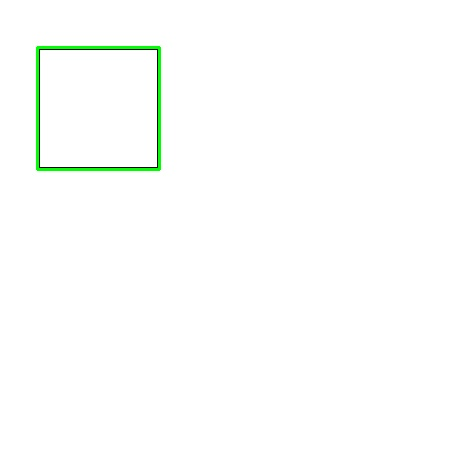line_segment: (36, 46, 161, 171)
